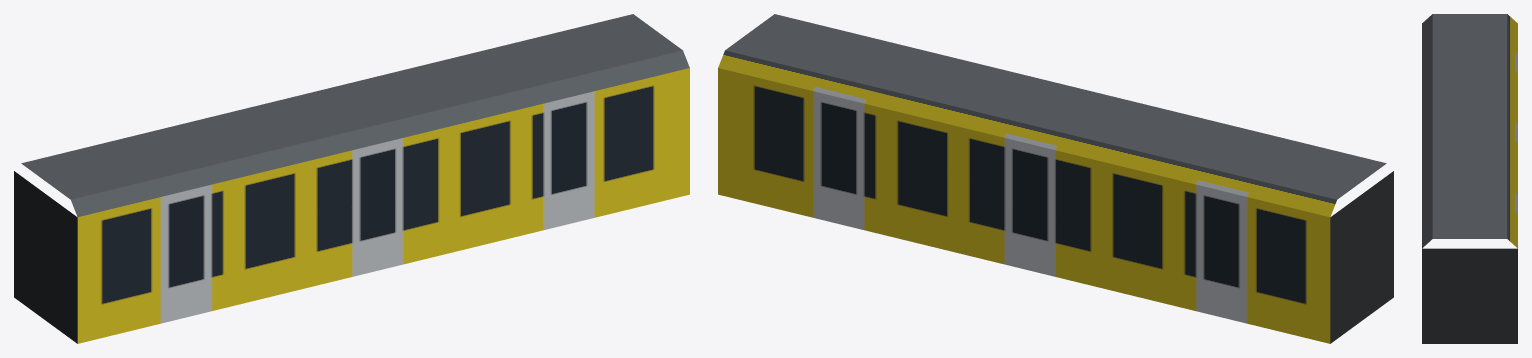
File: bvg_kleinprofil__neutral.glb
3 views of the same model, side by side, from view 1: azimuth 30°, elevation 25°; view 2: azimuth 150°, elevation 25°; view 3: azimuth 270°, elevation 25° (orthographic). The views are drawn at different scales.
Visible parts, largest first — view 1: bvg_kleinprofil; view 2: bvg_kleinprofil; view 3: bvg_kleinprofil.
Part boxes in pixels (bbox=[...]): bvg_kleinprofil: bbox=[14, 14, 689, 343]; bvg_kleinprofil: bbox=[718, 14, 1393, 343]; bvg_kleinprofil: bbox=[1422, 14, 1517, 343].
Size of the model in its own units: 12.8 by 2.78 by 2.3.
1 material, 1 textured.
